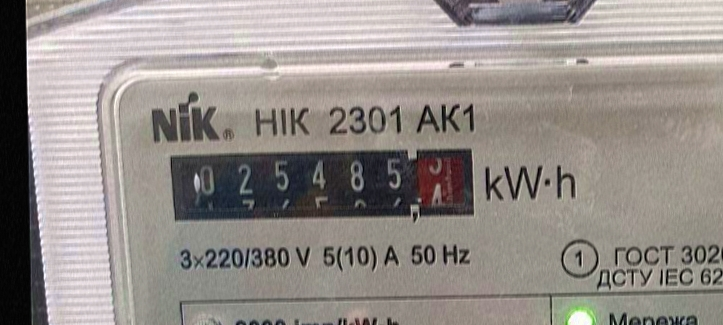0: (194, 162, 216, 198)
2: (233, 161, 254, 197)
4: (306, 157, 328, 191), (425, 181, 445, 209)
5: (381, 156, 403, 193), (269, 158, 290, 193)
8: (345, 156, 366, 195)
screen: (159, 141, 481, 233)
